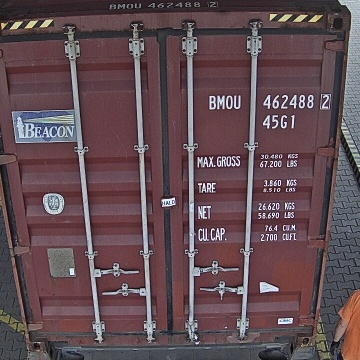serial_id: (209, 93, 330, 109)
